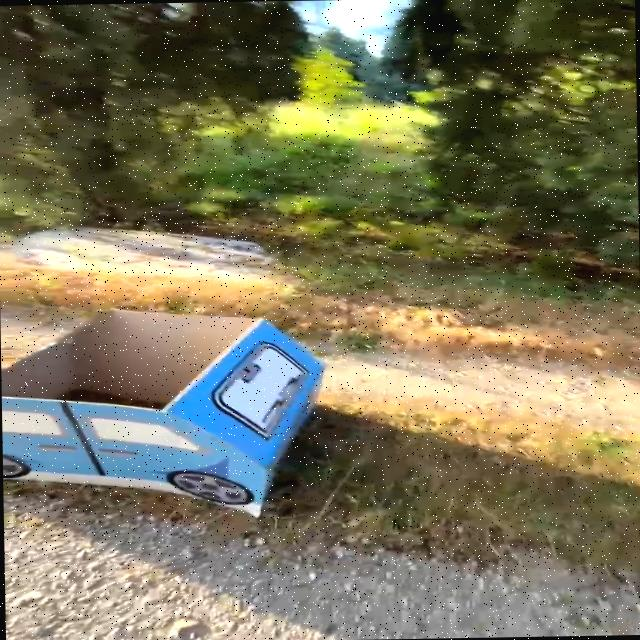blue_car: (0, 290, 367, 560)
